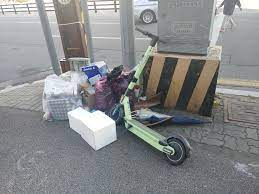kick_handler: (135, 28, 158, 46)
kick_wheel: (163, 135, 187, 164)
